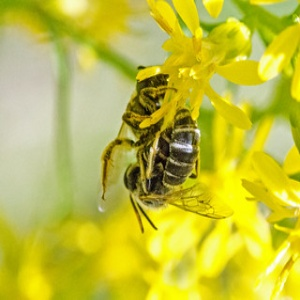bee: (98, 61, 235, 236)
